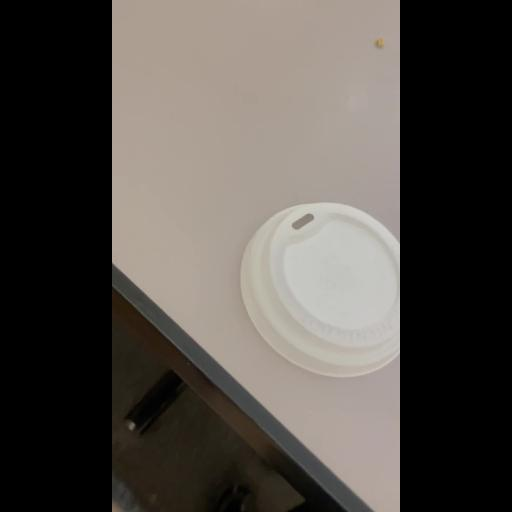lp_cup_lids: (232, 195, 400, 391)
